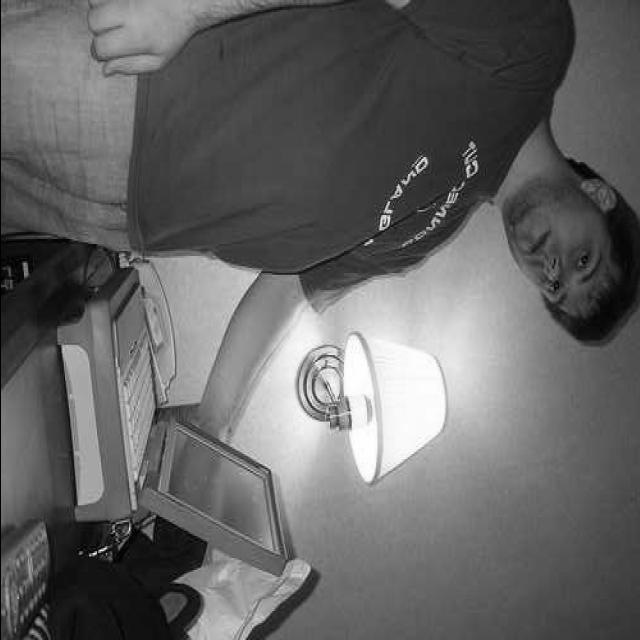laptop: (57, 258, 291, 560)
